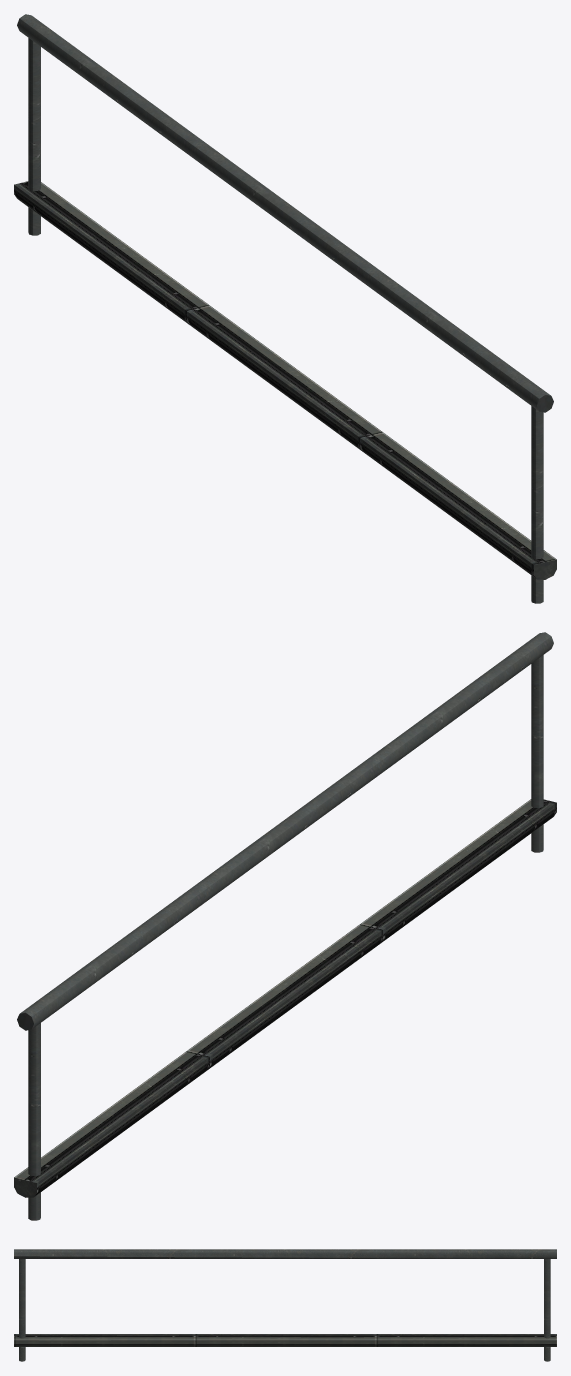
Rendered from Neon_Railing_02.FBX.
3 renders of one model, top to bottom at view 1: azimuth 30°, elevation 25°; view 2: azimuth 150°, elevation 25°; view 3: azimuth 270°, elevation 25°, orthographic. The views are drawn at different scales.
Parts seen in each view (by area): view 1: Neon_Railing_02; view 2: Neon_Railing_02; view 3: Neon_Railing_02.
Boxes of the visible parts, left/top/right/bottom form: Neon_Railing_02: left=14, top=14, right=556, bottom=603; Neon_Railing_02: left=14, top=632, right=556, bottom=1220; Neon_Railing_02: left=14, top=1249, right=556, bottom=1361.
Bounding box in the file's own units: 0.1025 × 0.9006 × 4.
